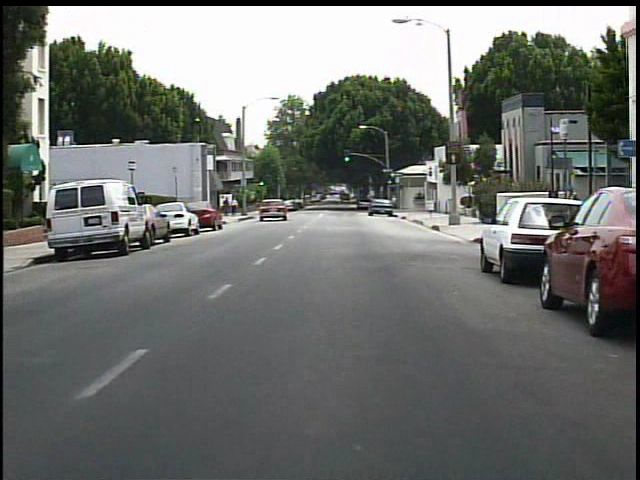person: (221, 196, 233, 218), (231, 197, 242, 219)
